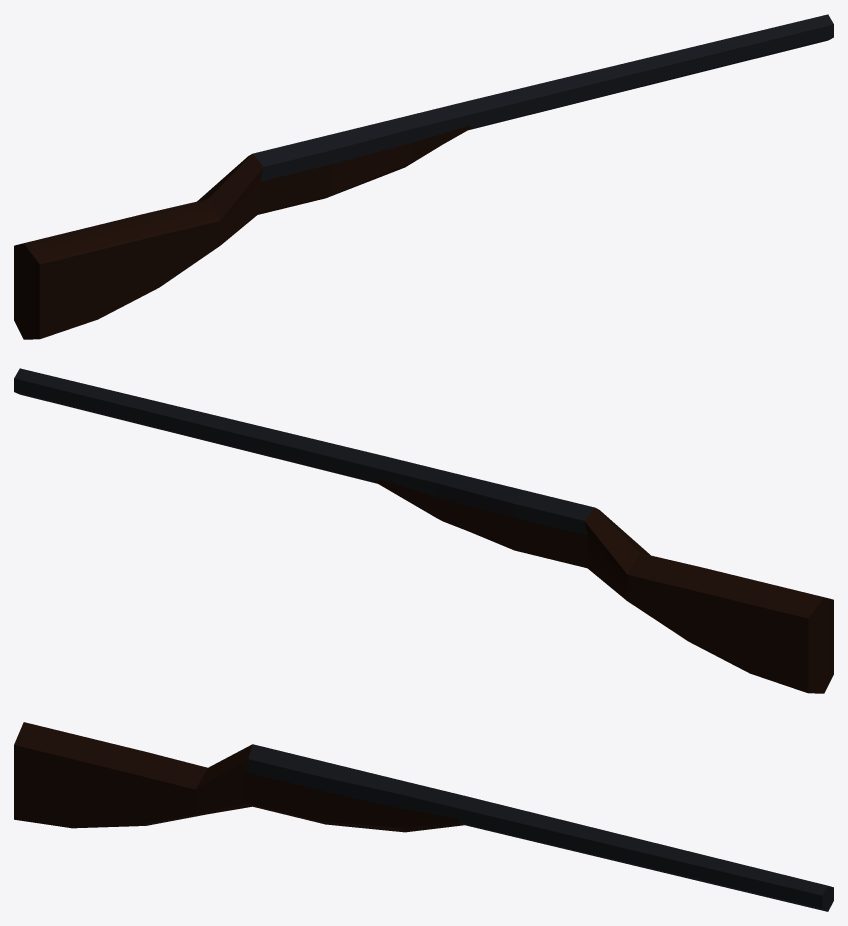
File: Shotgun.FBX
3 views of the same model, one above another, from view 1: azimuth 30°, elevation 25°; view 2: azimuth 150°, elevation 25°; view 3: azimuth 330°, elevation 25° (orthographic).
Visible parts, largest first — view 1: Shotgun; view 2: Shotgun; view 3: Shotgun.
Boxes of the visible parts, x1,y1,x2,y2 form: Shotgun: (14,14,833,339); Shotgun: (14,368,833,693); Shotgun: (14,722,833,911).
Size of the model in its own units: 104 by 16.11 by 5.79.
